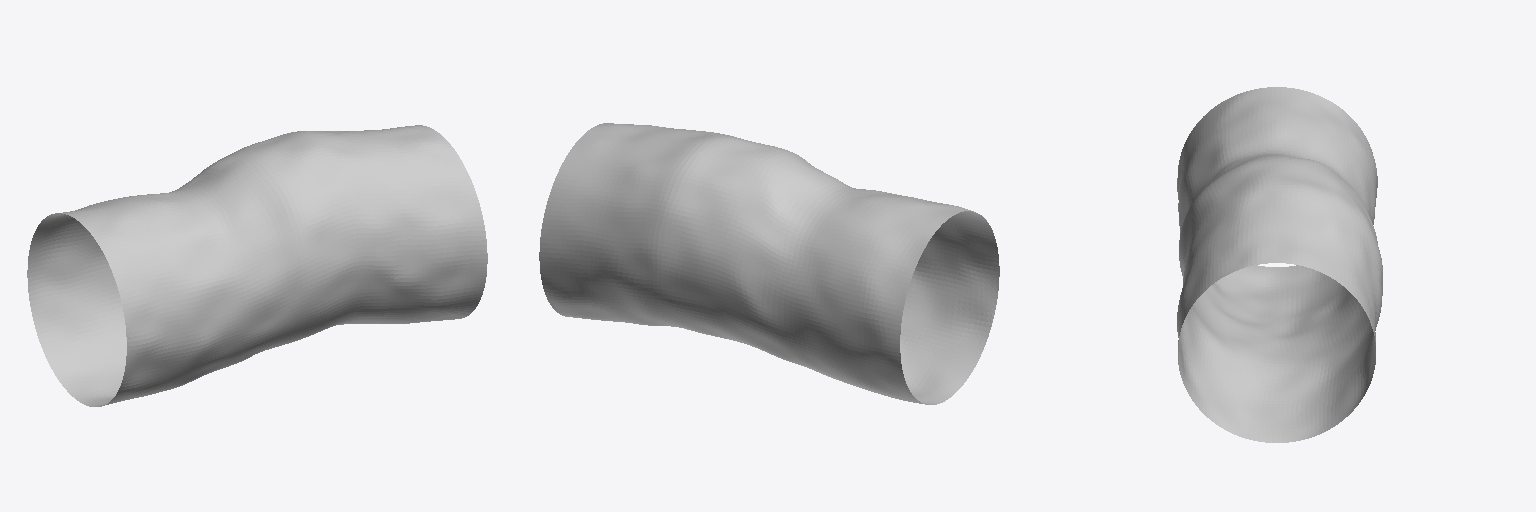
3 views of the same model, side by side, from view 1: azimuth 30°, elevation 25°; view 2: azimuth 150°, elevation 25°; view 3: azimuth 270°, elevation 25° (orthographic).
Visible parts, largest first — view 1: ET; view 2: ET; view 3: ET.
Boxes of the visible parts, <box> form: ET: <box>27,125,487,406</box>; ET: <box>539,123,999,404</box>; ET: <box>1177,87,1382,442</box>.
Size of the model in its own units: 4.17 by 2.23 by 2.06.